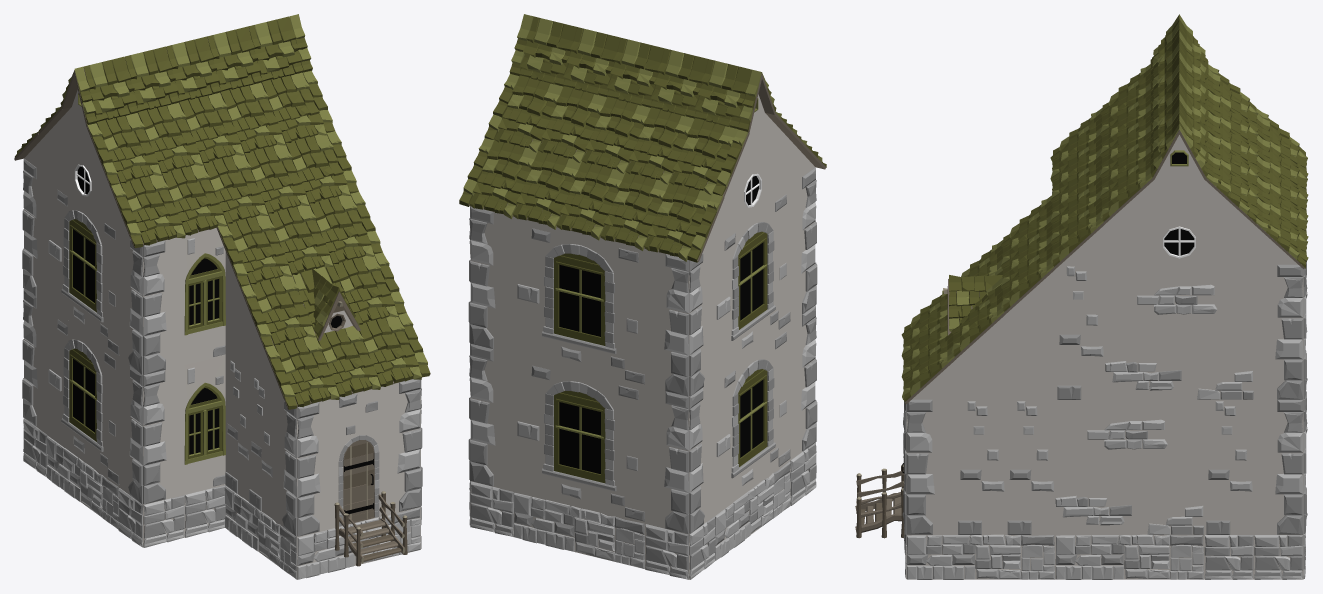
The model's file is HOUSE_7.fbx.
3 views of the same model, side by side, from view 1: azimuth 30°, elevation 25°; view 2: azimuth 150°, elevation 25°; view 3: azimuth 270°, elevation 25° (orthographic). The views are drawn at different scales.
Visible parts, largest first — view 1: WINDOW_05_12, WINDOW_05_13, WALL_05_2, WINDOW_01_02, WALL_05_3, WALL_05_4, WINDOW_01_03, WALL_07_3, DOOR_01_3, FOUNDATION_03_2, WALL_05_7, WALL_05_6 (+57 smaller); view 2: WINDOW_05_11, WINDOW_05_10, WINDOW_05_12, WINDOW_05_13, WALL_05_9, WALL_07_8, WALL_05_8, WALL_07_9, FOUNDATION_03_5, WALL_07_6, WALL_07_4, WALL_05_6 (+33 smaller); view 3: WALL_03_2, WALL_03_3, WALL_06_5, WALL_05_5, FOUNDATION_03_6, FOUNDATION_03_7, WALL_06_8, WALL_07_5, WALL_06_6, WALL_06_10, WALL_07_7, ROOF_TRIANGLE_QUAD_WINDOW_3 (+62 smaller).
Boxes of the visible parts, box(x1,y1,x2,y2) form: WINDOW_05_12: box(48, 176, 119, 357); WINDOW_05_13: box(48, 306, 119, 486); WALL_05_2: box(143, 365, 184, 504); WINDOW_01_02: box(184, 355, 225, 494); WALL_05_3: box(143, 237, 184, 374); WALL_05_4: box(297, 399, 338, 536); WINDOW_01_03: box(184, 228, 225, 364); WALL_07_3: box(379, 379, 421, 516); DOOR_01_3: box(338, 389, 379, 526); FOUNDATION_03_2: box(297, 507, 420, 579); WALL_05_7: box(22, 158, 47, 304); WALL_05_6: box(22, 288, 47, 434); WINDOW_05_11: box(514, 354, 645, 523); WINDOW_05_10: box(514, 217, 645, 385); WINDOW_05_12: box(714, 186, 790, 378); WINDOW_05_13: box(714, 323, 790, 515); WALL_05_9: box(469, 343, 514, 491); WALL_07_8: box(645, 386, 689, 533); WALL_05_8: box(469, 206, 514, 353); WALL_07_9: box(645, 249, 689, 396); FOUNDATION_03_5: box(514, 491, 645, 568); WALL_07_6: box(790, 167, 817, 322); WALL_07_4: box(790, 305, 817, 459); WALL_05_6: box(689, 379, 714, 533); WALL_03_2: box(1055, 399, 1204, 534); WALL_03_3: box(1105, 264, 1253, 399); WALL_06_5: box(1005, 399, 1055, 534); WALL_05_5: box(906, 399, 956, 534); FOUNDATION_03_6: box(1055, 534, 1204, 579); FOUNDATION_03_7: box(906, 534, 1055, 579); WALL_06_8: box(1204, 399, 1253, 534); WALL_07_5: box(1254, 399, 1303, 534); WALL_06_6: box(956, 399, 1005, 534); WALL_06_10: box(1055, 264, 1104, 399); WALL_07_7: box(1254, 264, 1303, 399); ROOF_TRIANGLE_QUAD_WINDOW_3: box(1154, 219, 1204, 264).
Bounding box in the file's own units: 547 × 1014 × 913.
